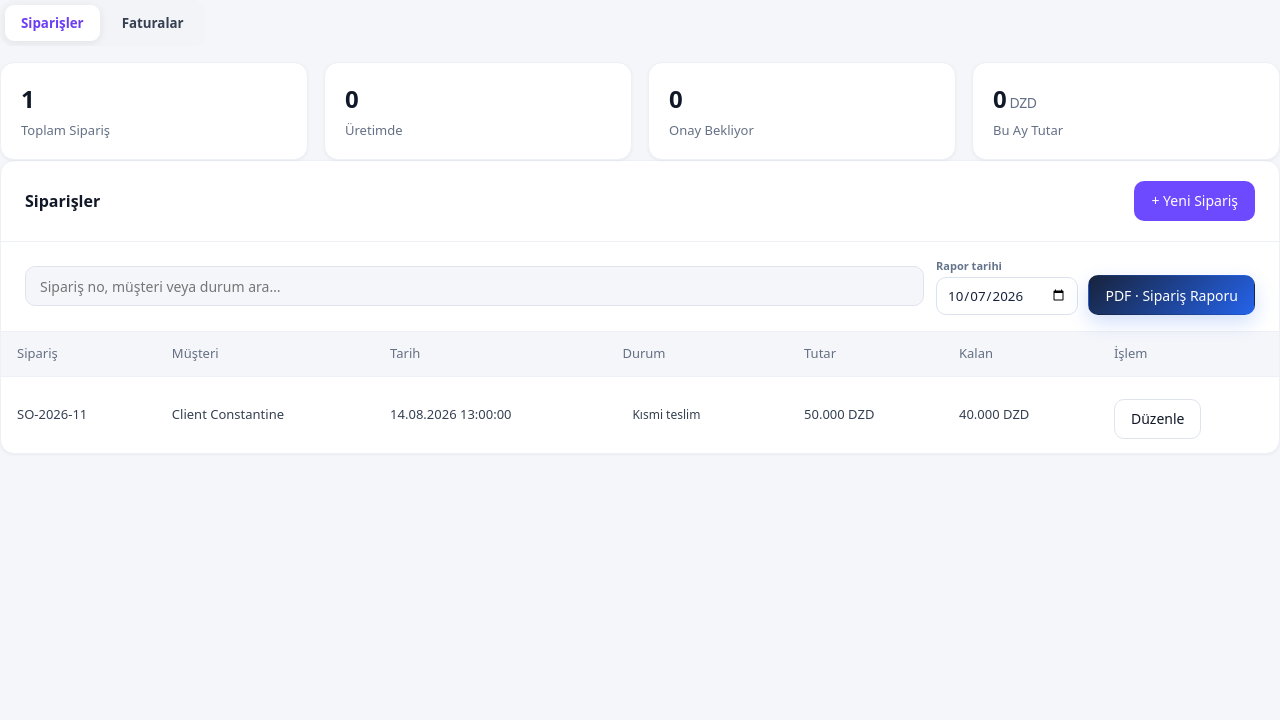
Test case: OrdersModule localization › uses pieces and per-piece prices when a collar is selected
The image size is (1280, 720).
Expected: the text "SO-2026-11" is shown, [1, 376, 156, 452]
Click the button "+ Yeni Sipariş": (1195, 200) [1134, 180, 1255, 220]
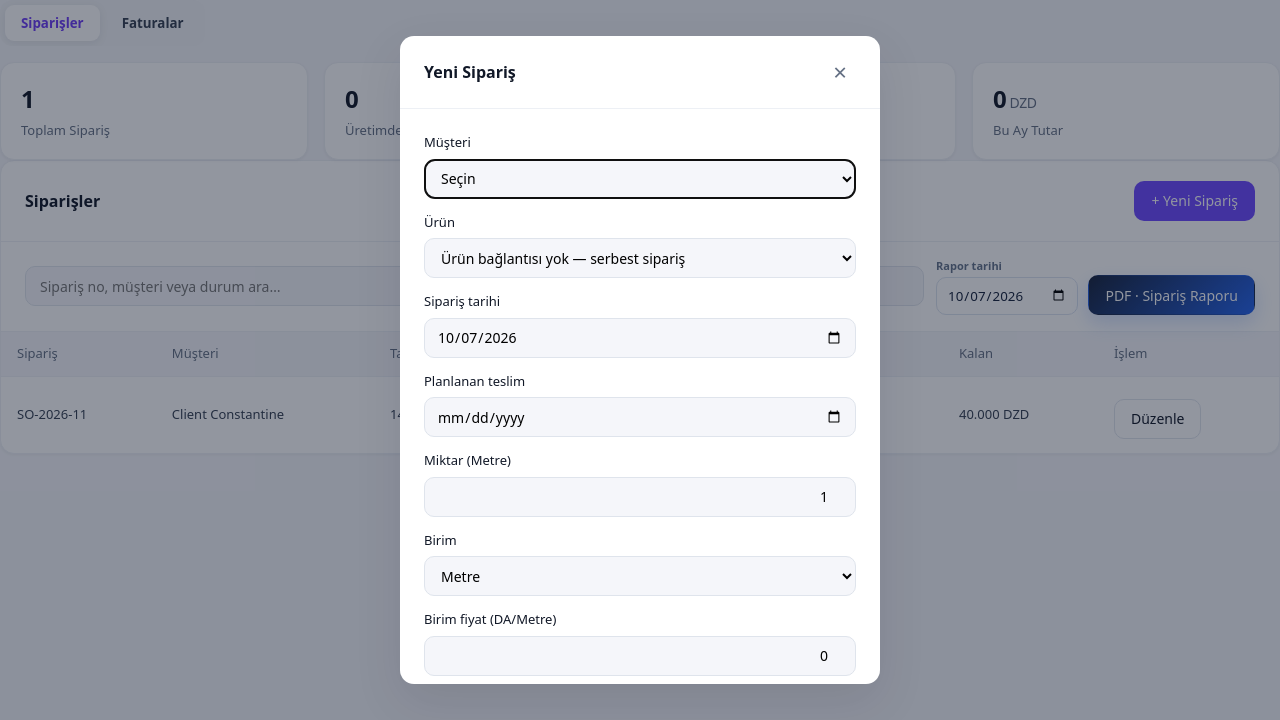
Select "COLLAR · Yaka" in the dropdown labelled "Ürün": (640, 258) [424, 238, 856, 278]
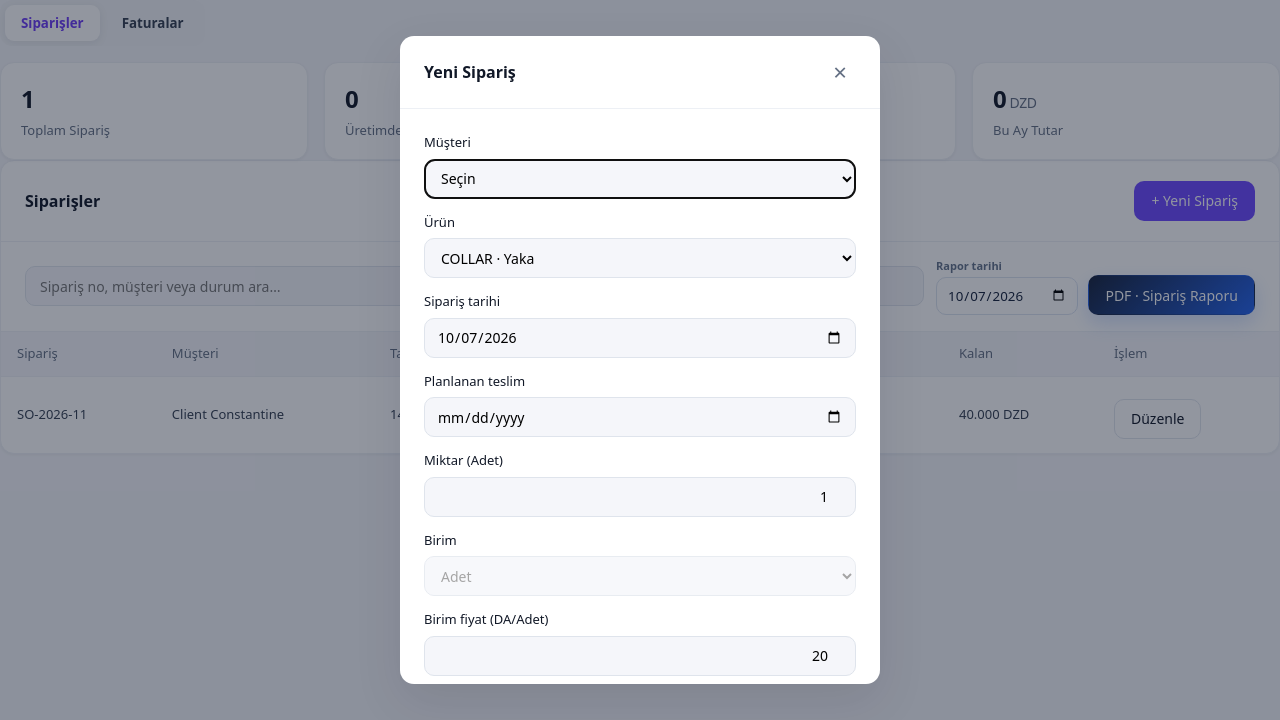
Expected: the number field labelled "Miktar (Adet)" is shown, [424, 476, 856, 516]
Expected: the number field labelled "Birim fiyat (DA/Adet)" holds "20", [424, 636, 856, 676]
